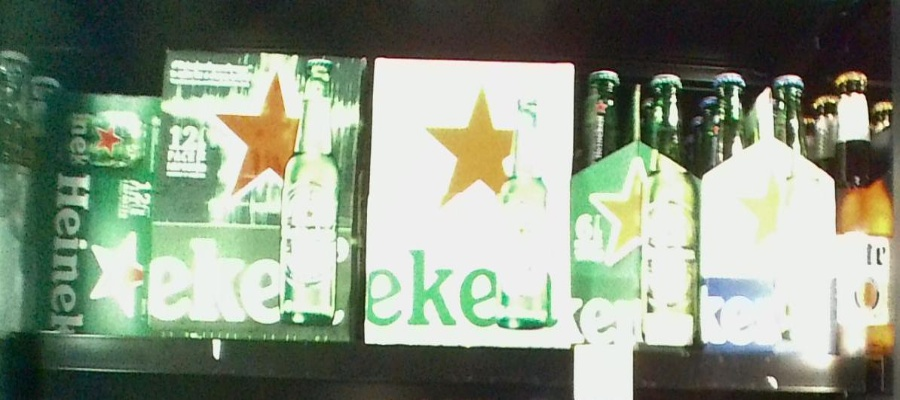bottle: (371, 54, 572, 352), (164, 50, 363, 339), (703, 74, 833, 349), (574, 70, 696, 350), (35, 90, 151, 337), (837, 72, 895, 357)
